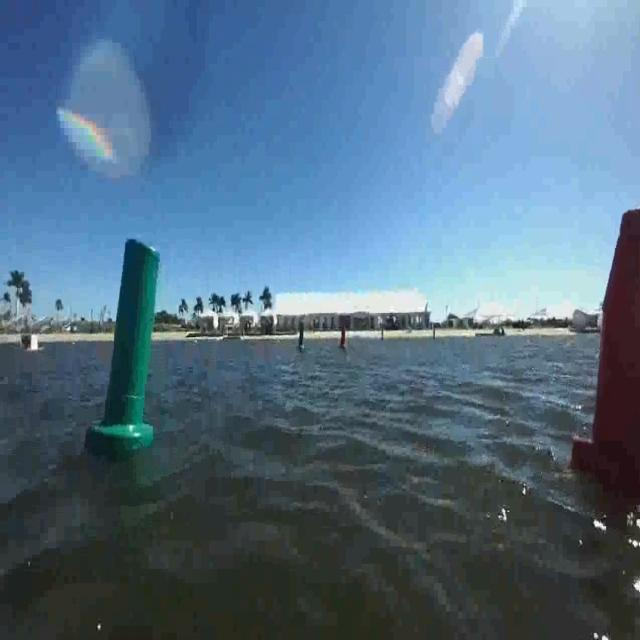green-column-buoy: (92, 238, 163, 451), (296, 321, 306, 354)
red-column-buoy: (569, 195, 638, 473), (340, 322, 350, 351)
